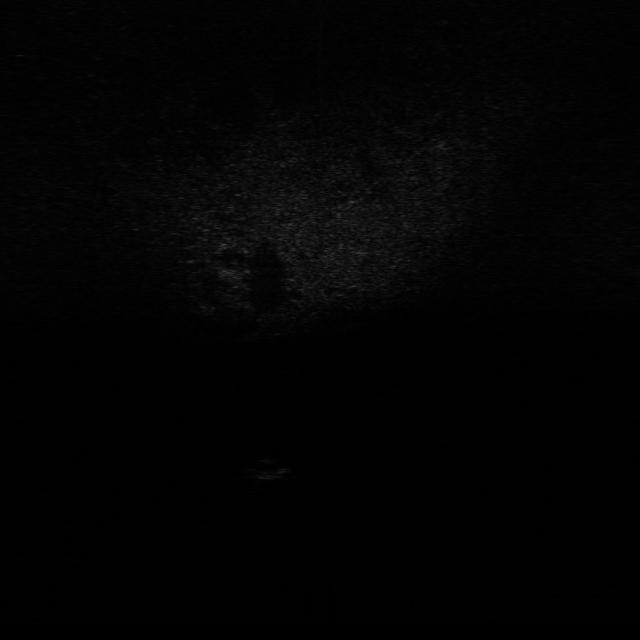ball: (247, 454, 294, 481)
